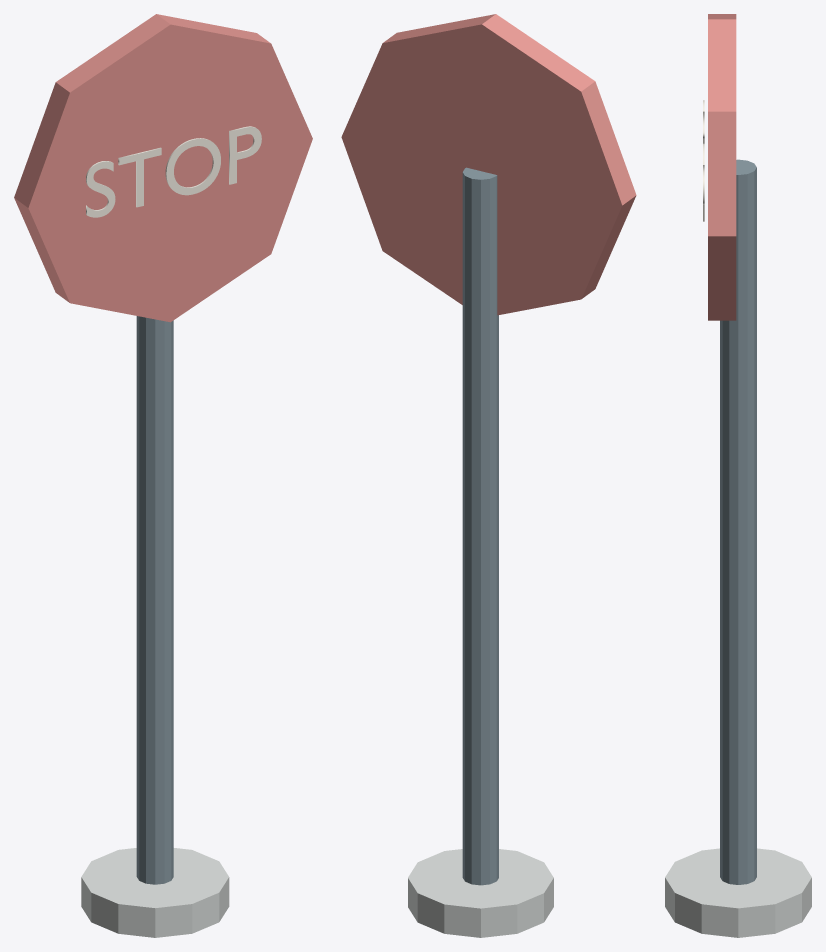
The model's file is stop.glb.
The picture shows the model from 3 angles, left to right: view 1: azimuth 30°, elevation 25°; view 2: azimuth 150°, elevation 25°; view 3: azimuth 270°, elevation 25°; orthographic projection.
Visible parts, largest first — view 1: stop_002, stop_000, stop_001, stop_003; view 2: stop_002, stop_000, stop_001; view 3: stop_000, stop_001, stop_002.
Part boxes in pixels (x1,y1,x2,y2): stop_002: (14, 14, 312, 322); stop_000: (136, 316, 173, 884); stop_001: (81, 848, 229, 937); stop_003: (86, 126, 261, 217); stop_002: (341, 14, 636, 315); stop_000: (462, 167, 498, 885); stop_001: (408, 849, 553, 937); stop_000: (720, 159, 756, 884); stop_001: (665, 848, 811, 937); stop_002: (708, 14, 736, 320).
Size of the model in its own units: 0.8 by 2.4 by 0.36.
